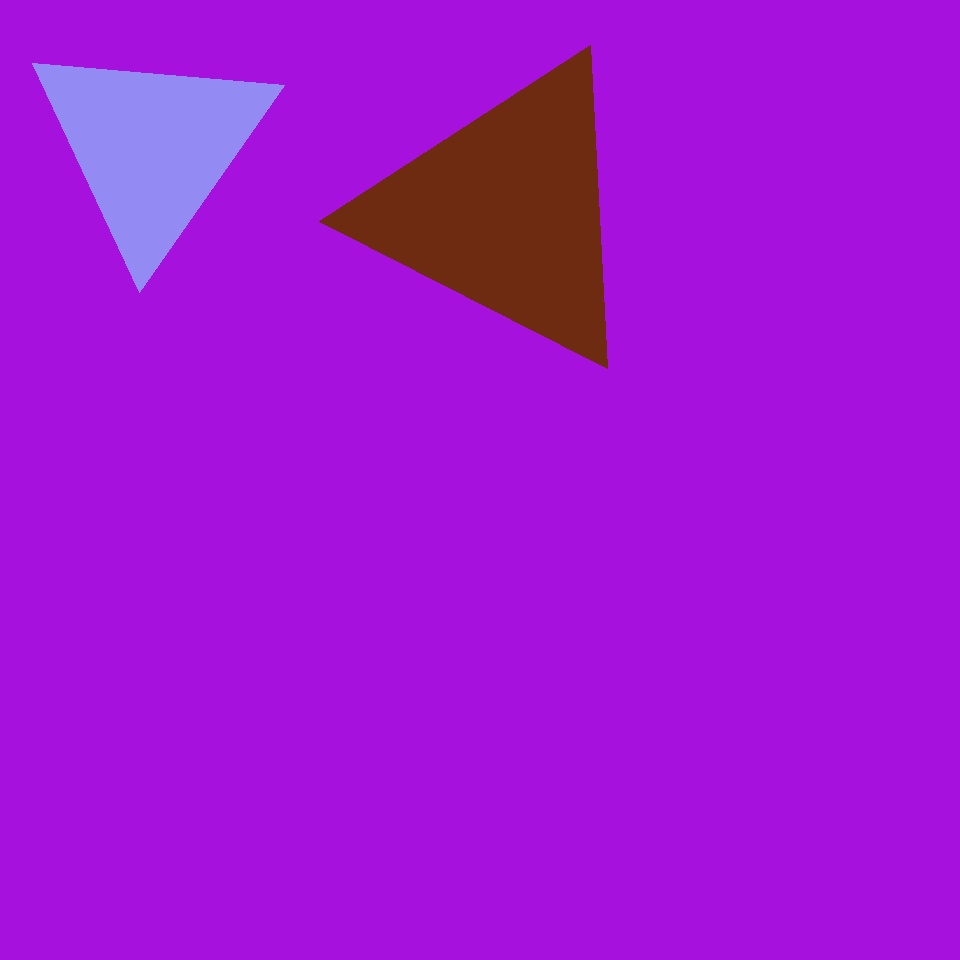circle: (362, 50, 650, 374), (171, 473, 420, 736), (26, 33, 278, 262), (726, 92, 925, 284), (126, 223, 270, 369)
square: (124, 594, 483, 953), (475, 174, 780, 479)
triangle: (24, 183, 356, 516), (72, 686, 343, 957)
